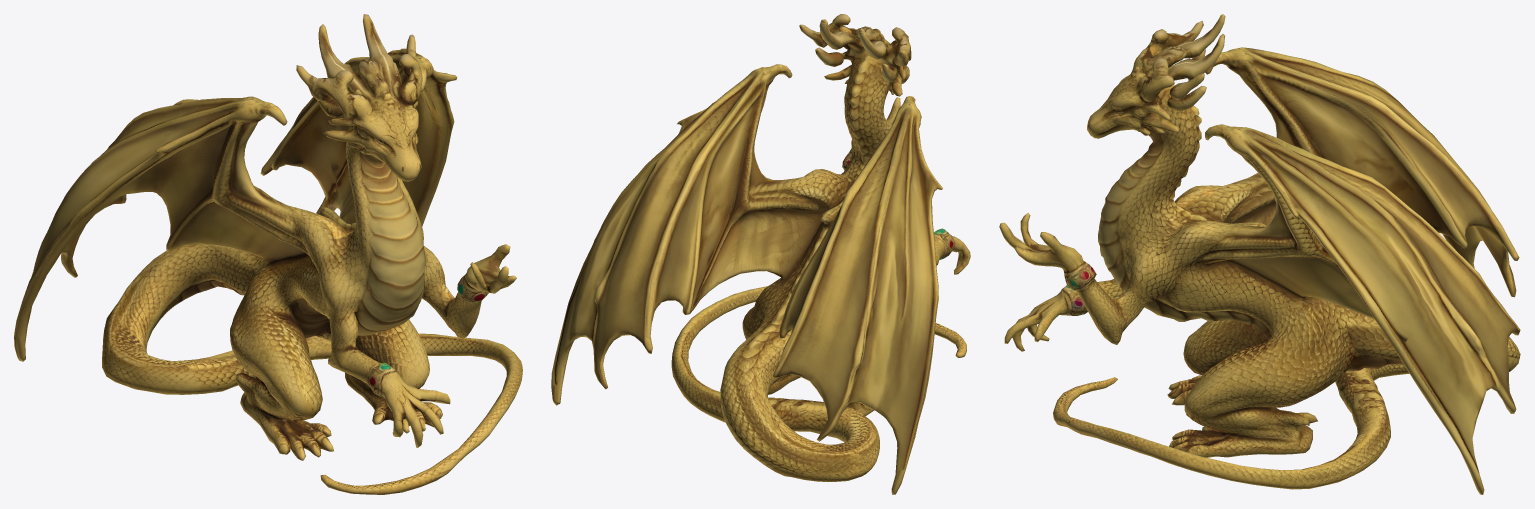
Rendered from hope-golden-aspect.glb.
3 renders of one model, left to right at view 1: azimuth 30°, elevation 25°; view 2: azimuth 150°, elevation 25°; view 3: azimuth 270°, elevation 25°, orthographic. The views are drawn at different scales.
Bounding box in the file's own units: 1.69 × 1.62 × 1.91.
1 material, 1 textured.
